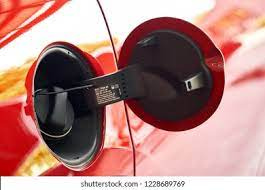open: (116, 12, 229, 134)
